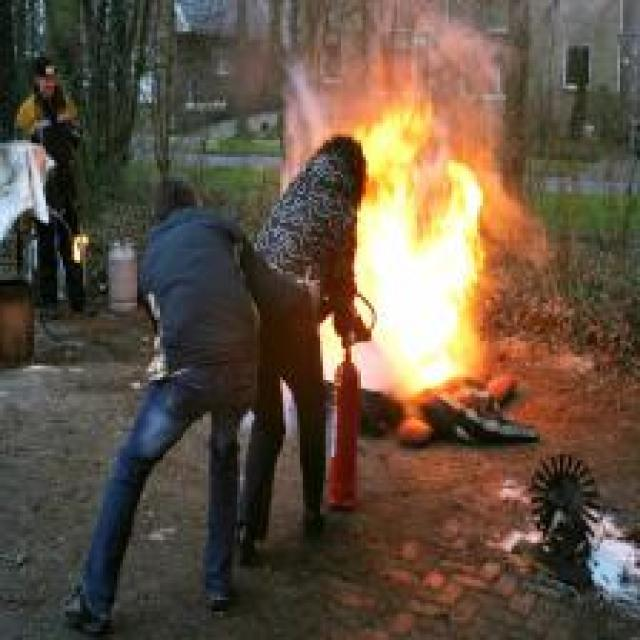Fire: (362, 117, 492, 380)
